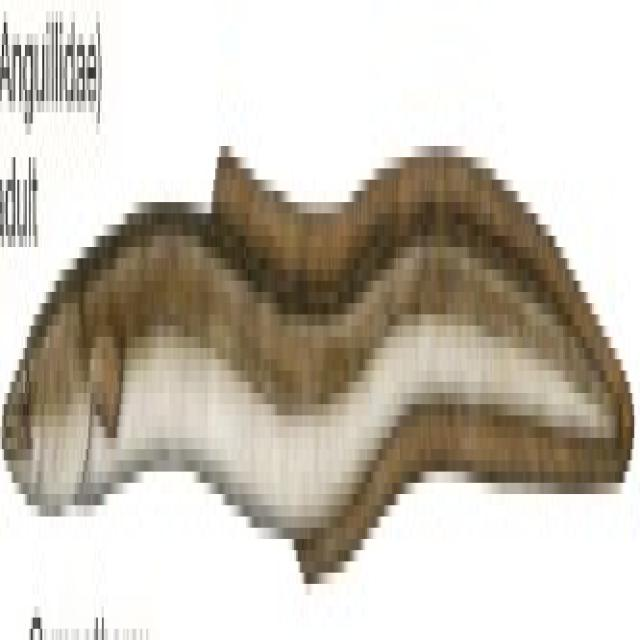Freshwater-Eel: (0, 45, 631, 608)
